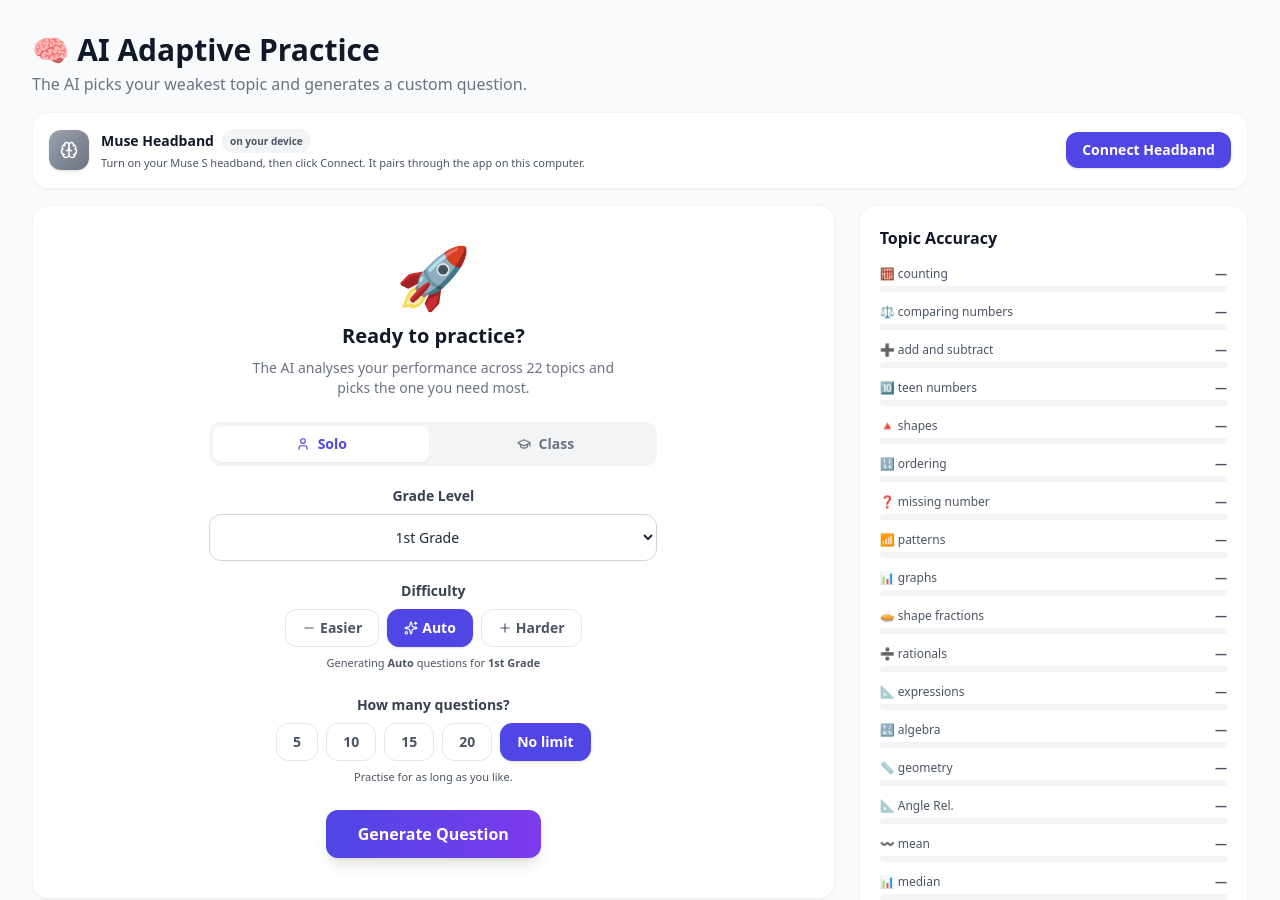
Test: says nothing when every reading was saved
The width and height of the screenshot is (1280, 900).
Click the button "Generate Question" at (433, 834), box [326,810,541,858]
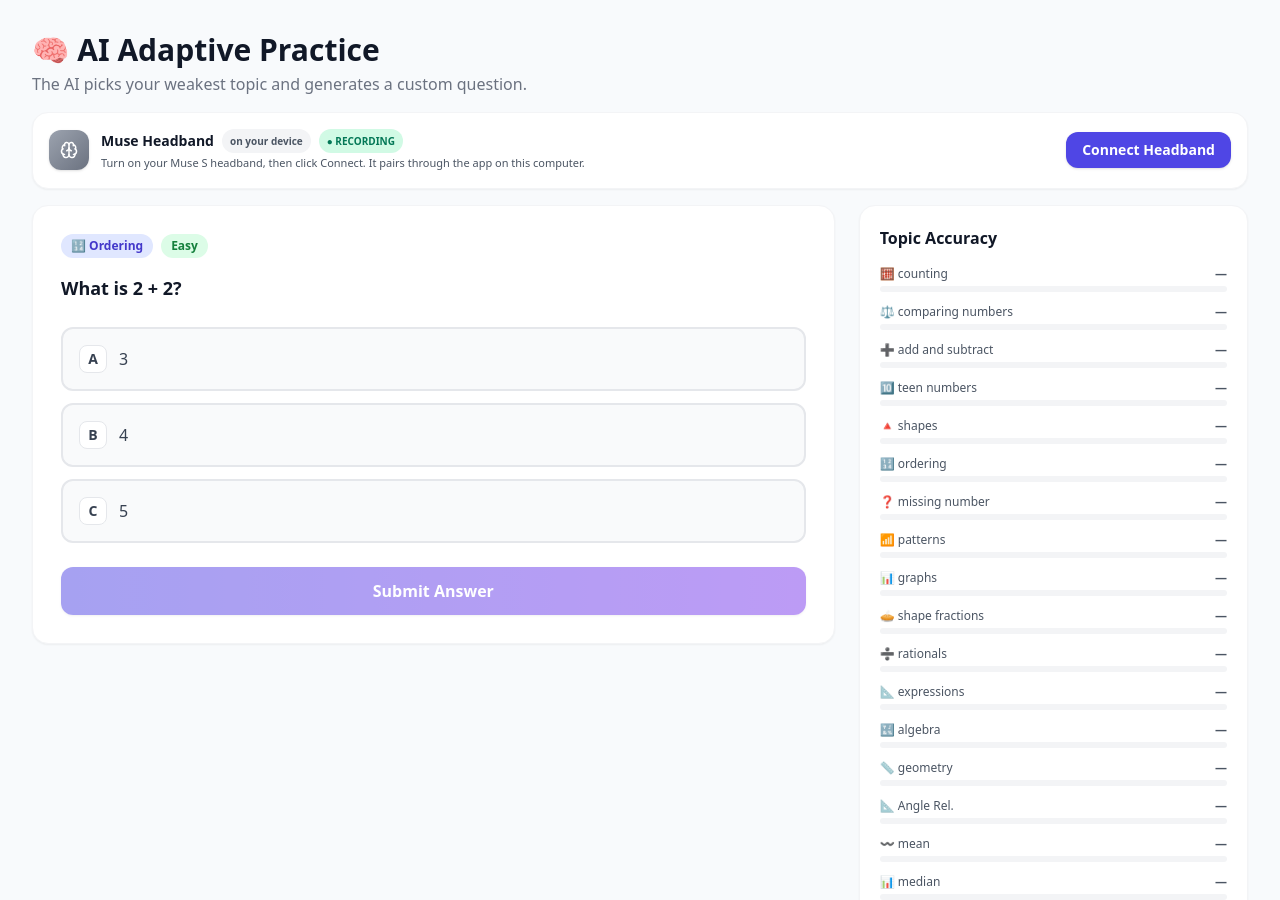
Result: the text "What is 2 + 2?" is shown at [61,276,182,300]
Result: the text "● RECORDING" is shown at [319,129,403,153]
